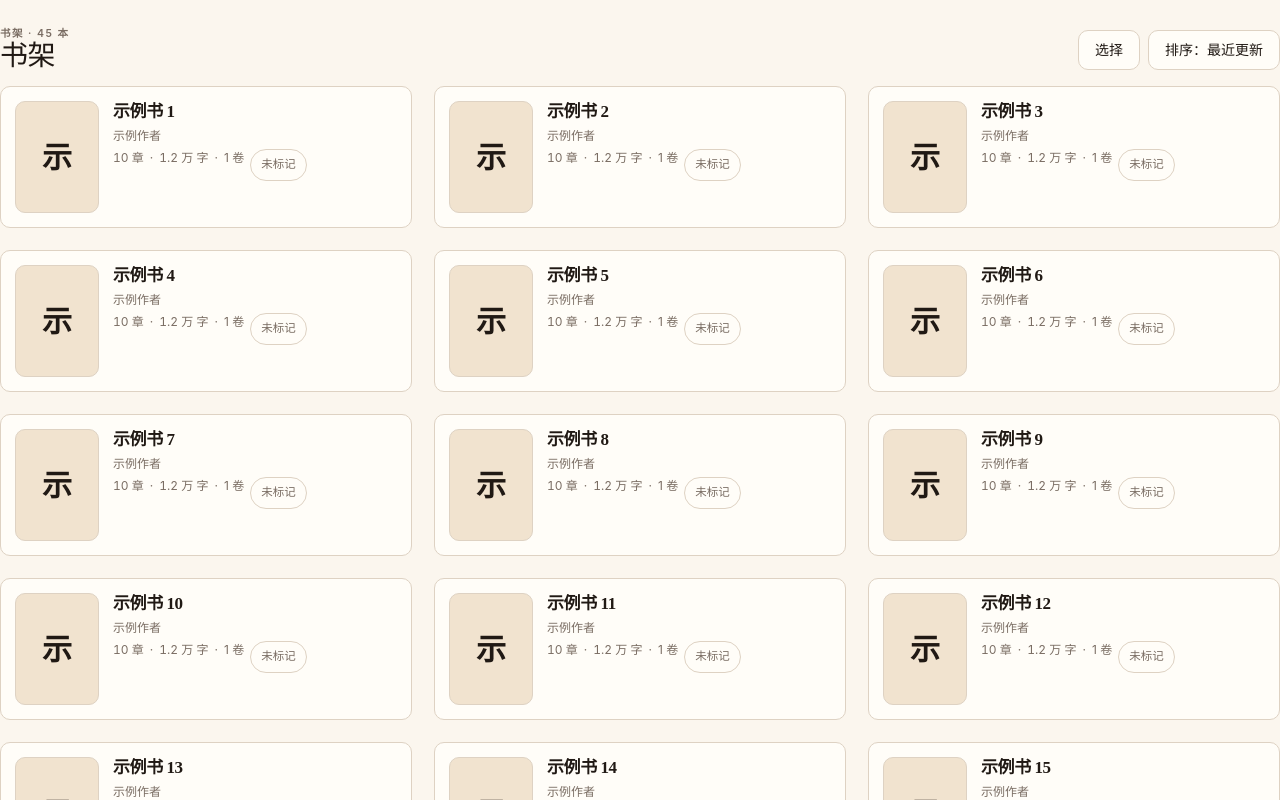
Test: 书架：H5 无限滚动与排序 › 换排序后回到第 1 页重新取数，结果替换而不是追加
Step 1. Click the button with test id "shelf-sort-trigger" → (1214, 50), box [1148,30,1279,70]
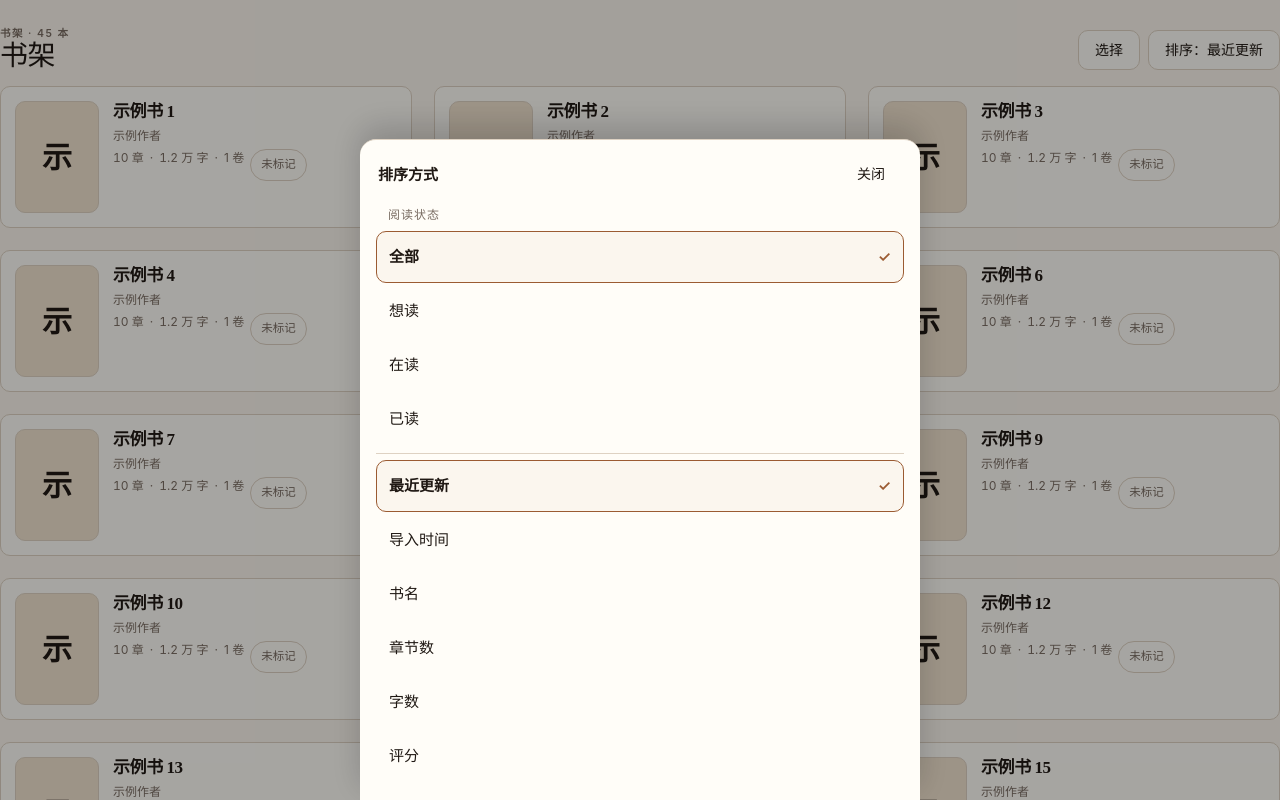
Check: the dialog is shown, box [360,139,920,799]
Step 2. Click the button with test id "sort-option-title" → (404, 594), box [376,568,904,620]
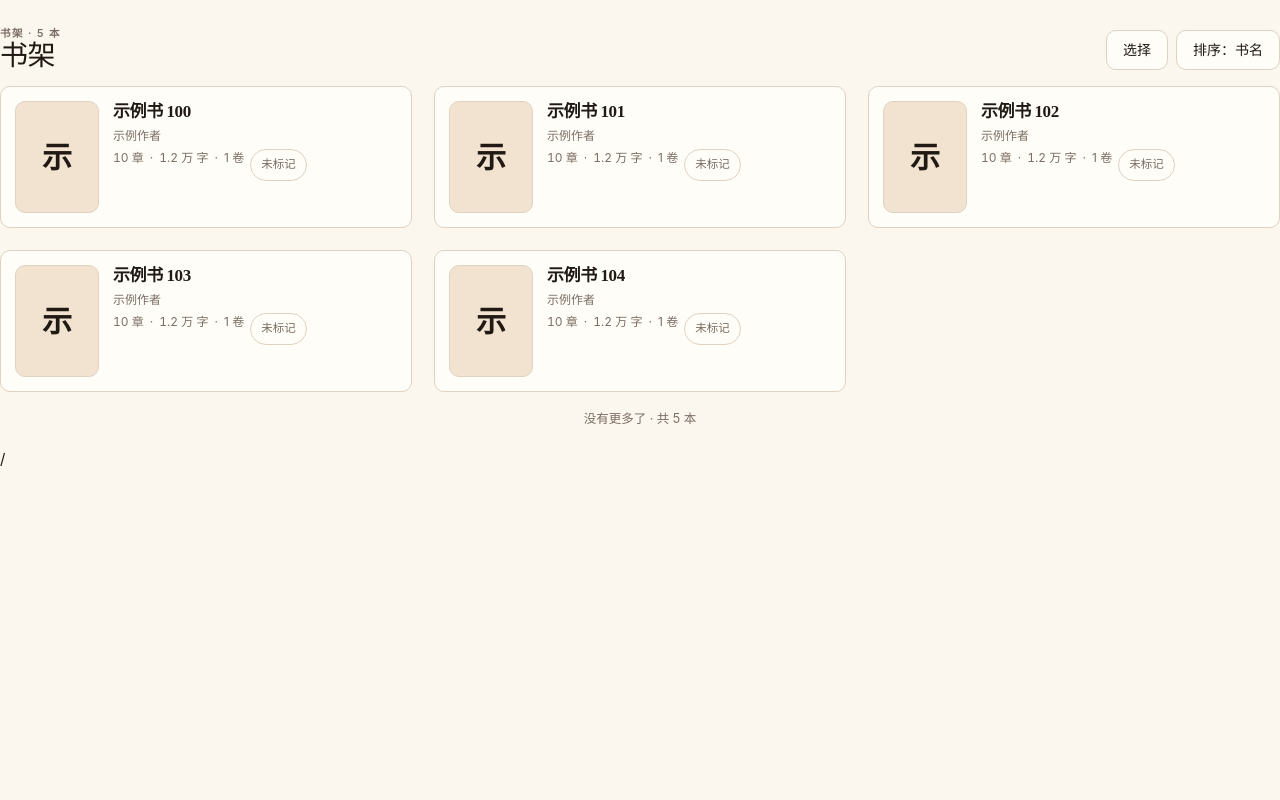
Check: the element with test id "shelf-sort-sheet" is gone
